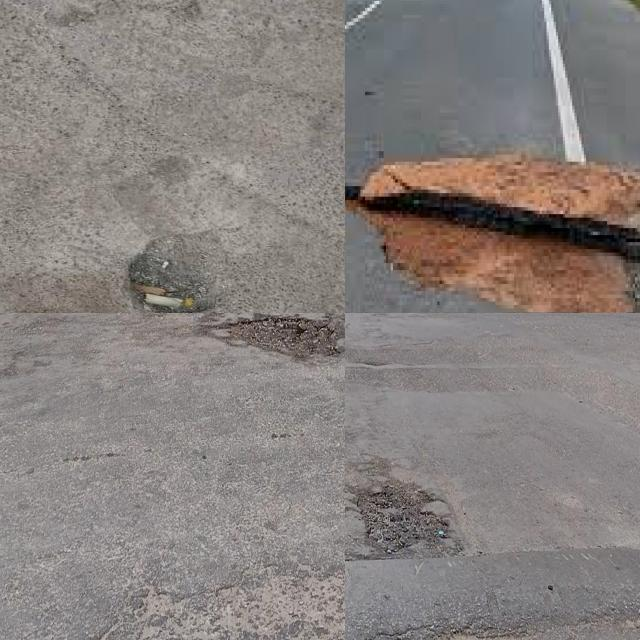Pothole: (345, 158, 640, 313), (132, 233, 224, 313), (357, 476, 450, 554), (211, 313, 331, 358)
